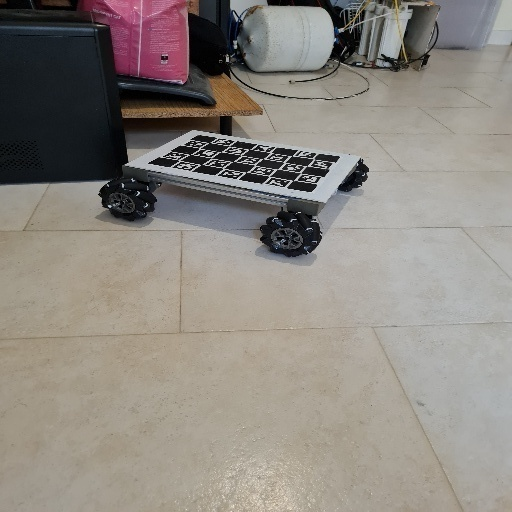Omniwheel: (97, 128, 369, 259)
